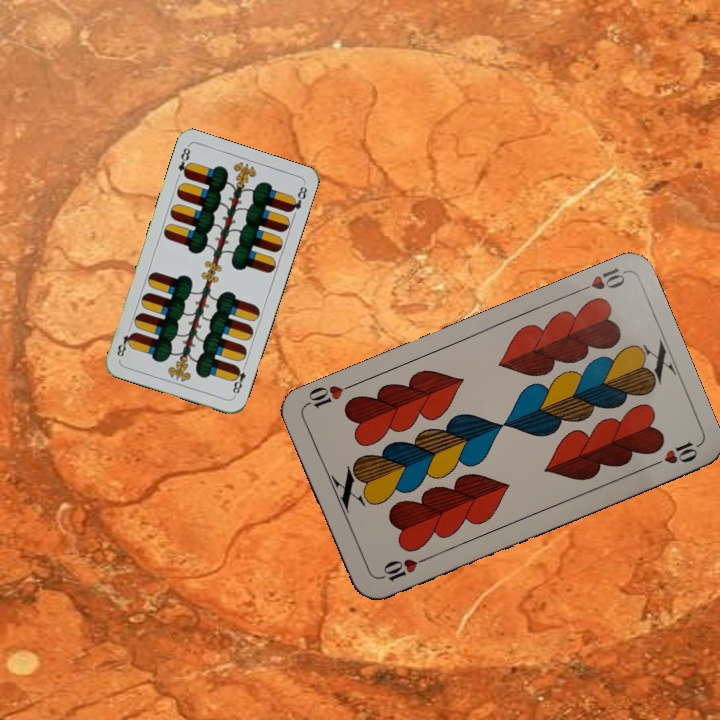E8: (229, 360, 249, 399), (174, 143, 193, 180)
H10: (375, 552, 431, 585), (571, 264, 628, 296)
